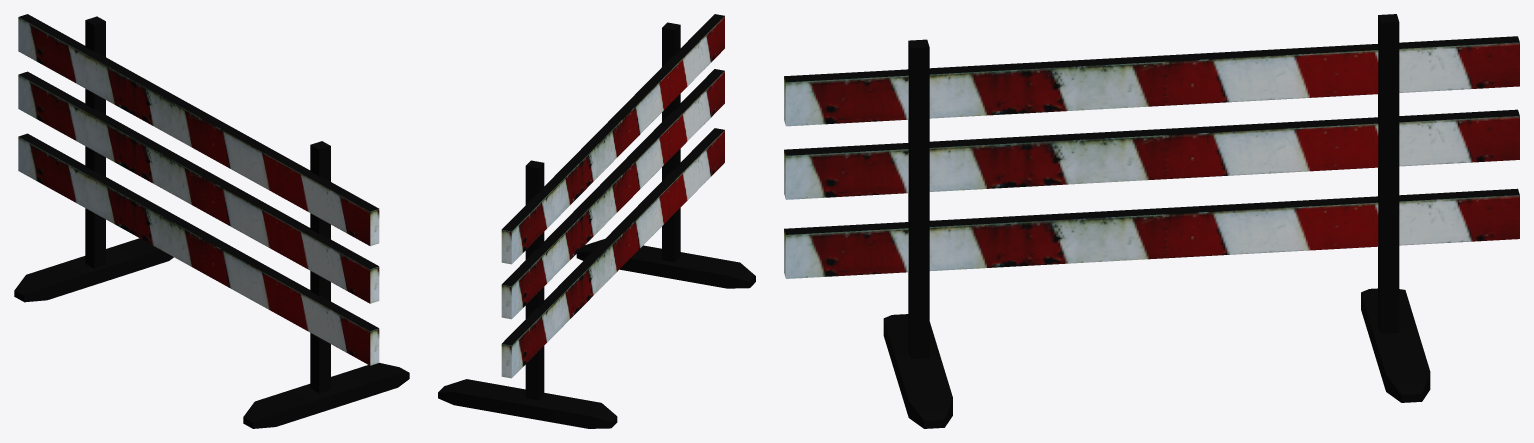
Rendered from road barrier1.FBX.
3 views of the same model, side by side, from view 1: azimuth 30°, elevation 25°; view 2: azimuth 150°, elevation 25°; view 3: azimuth 270°, elevation 25° (orthographic). The views are drawn at different scales.
Visible parts, largest first — view 1: Box002; view 2: Box002; view 3: Box002.
Part boxes in pixels (<box>): Box002: <box>14,14,409,428</box>; Box002: <box>438,14,755,428</box>; Box002: <box>784,14,1519,428</box>.
Bounding box in the file's own units: 14.82 × 17.14 × 34.8.
